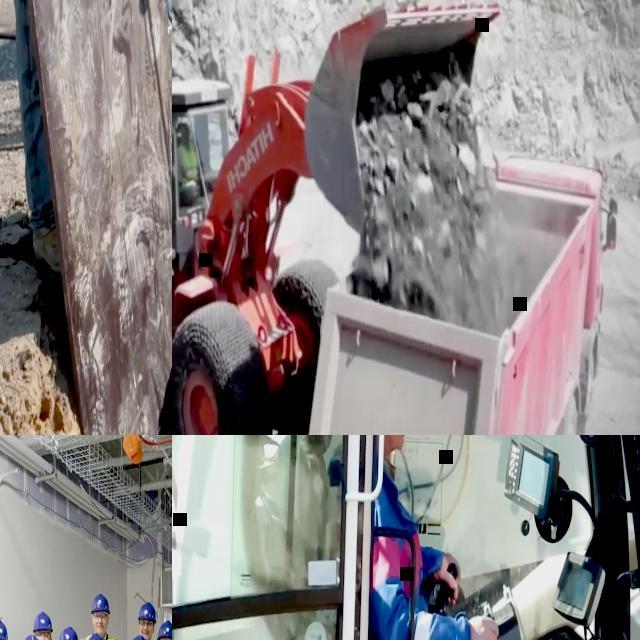helmet: (32, 610, 53, 632), (90, 594, 111, 614), (138, 602, 157, 622), (157, 618, 172, 640), (58, 625, 80, 640), (0, 617, 10, 640), (85, 632, 107, 640), (19, 633, 43, 640), (127, 634, 151, 640), (180, 122, 190, 132)
vest: (374, 484, 430, 640), (180, 144, 198, 182)
